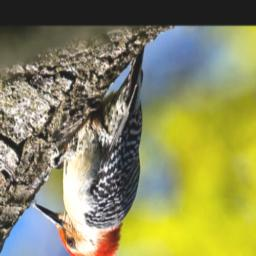Woodpecker: (29, 49, 144, 256)
